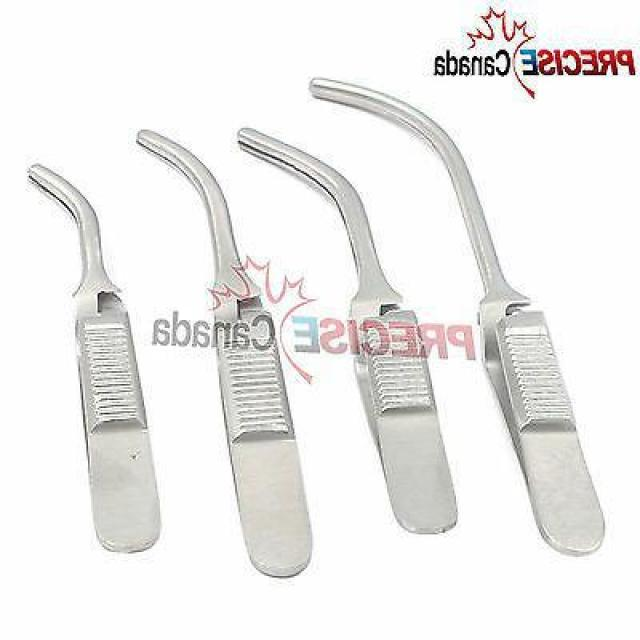Bulldog: (306, 77, 608, 560), (232, 125, 461, 540), (128, 126, 317, 581), (24, 162, 165, 556)
